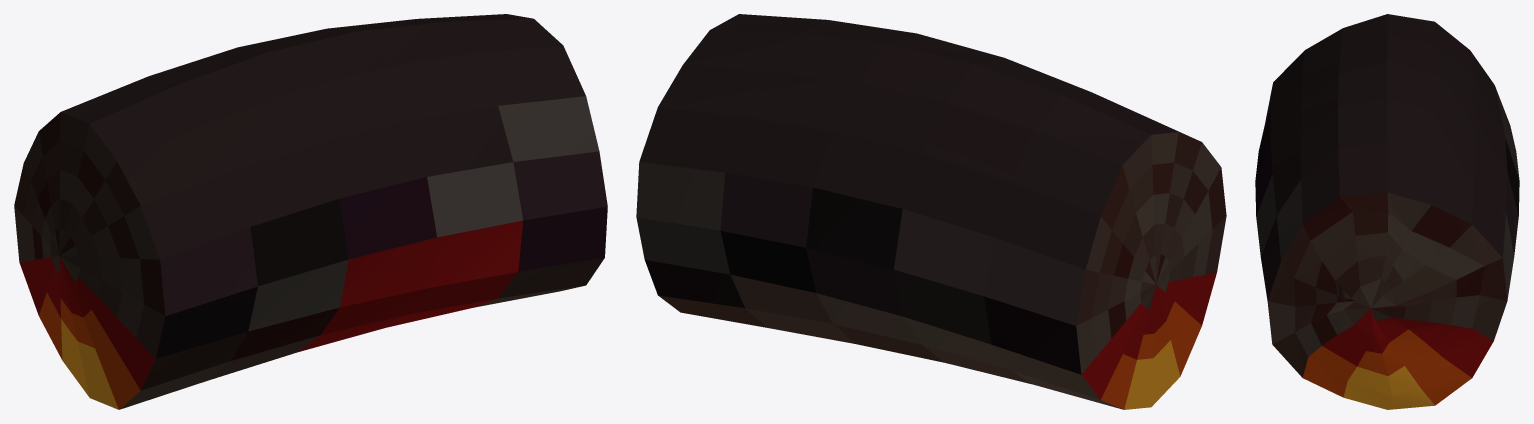
The model's file is Emberheart_Wood.glb.
3 views of the same model, side by side, from view 1: azimuth 30°, elevation 25°; view 2: azimuth 150°, elevation 25°; view 3: azimuth 270°, elevation 25° (orthographic). The views are drawn at different scales.
Parts seen in each view (by area): view 1: Emberheart_Wood; view 2: Emberheart_Wood; view 3: Emberheart_Wood.
Boxes of the visible parts, x1,y1,x2,y2 form: Emberheart_Wood: [14, 14, 607, 409]; Emberheart_Wood: [636, 14, 1226, 409]; Emberheart_Wood: [1255, 14, 1519, 409].
Size of the model in its own units: 1.08 by 0.6502 by 0.6346.
